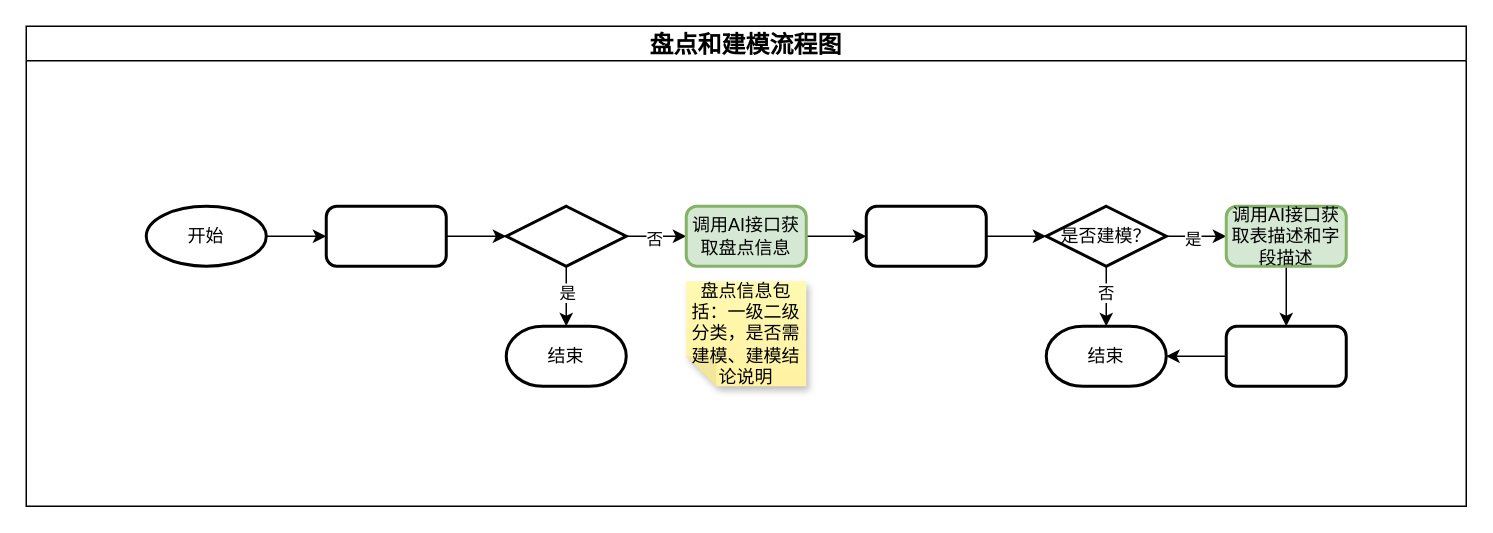
The diagram is 1493 pixels wide and 533 high, and some of its shapes have lost their labels. Here are the shapes that lost their labels. From the top down, the centre of each, then its label:
At point 385,235: "定期查询源头新增表清单".
At point 565,235: "是否已盘点？".
At point 925,235: "盘点信息入库".
At point 1285,355: "触发系统ODS建模".
